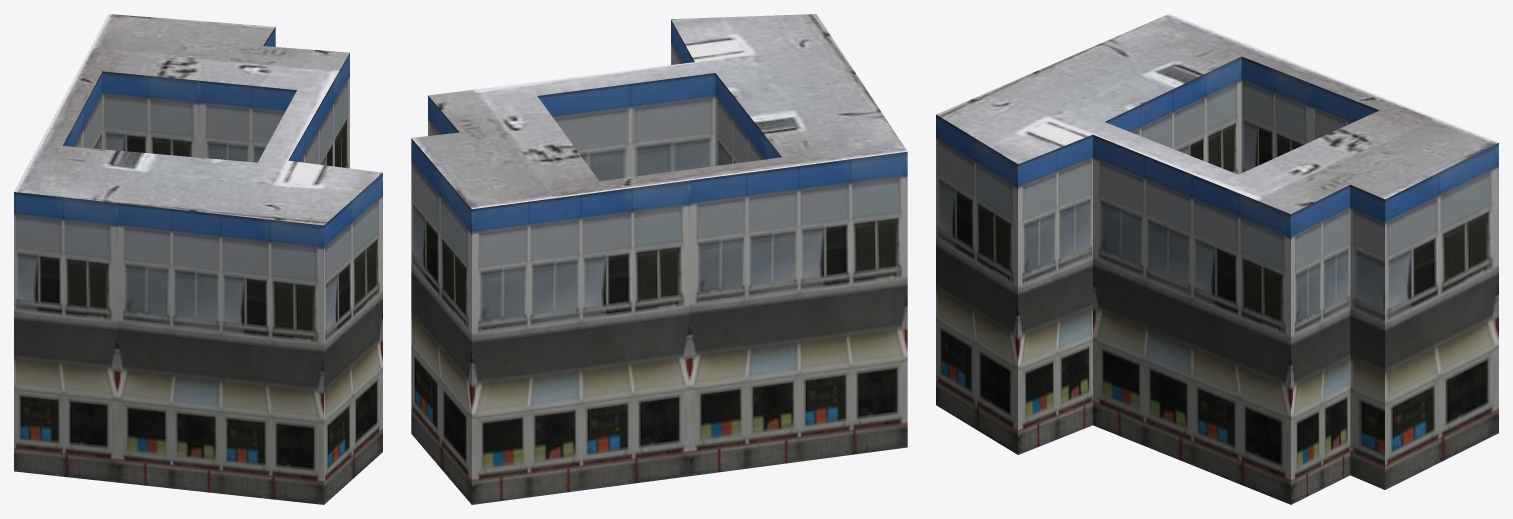
File: EduTex__20.fbx
3 renders of one model, left to right at view 1: azimuth 30°, elevation 25°; view 2: azimuth 150°, elevation 25°; view 3: azimuth 270°, elevation 25°, orthographic. The views are drawn at different scales.
Visible parts, largest first — view 1: CityEngineMaterial_19_m, CityEngineMaterial_11_m; view 2: CityEngineMaterial_19_m, CityEngineMaterial_11_m; view 3: CityEngineMaterial_19_m, CityEngineMaterial_11_m.
Part boxes in pixels (x1,y1,x2,y2): CityEngineMaterial_19_m: (14,27,382,504); CityEngineMaterial_11_m: (14,14,382,225); CityEngineMaterial_19_m: (411,20,907,504); CityEngineMaterial_11_m: (411,14,907,208); CityEngineMaterial_19_m: (936,56,1498,504); CityEngineMaterial_11_m: (936,14,1498,213).
Size of the model in its own units: 13.3 by 9 by 15.79.
Materials: 2 (2 with a texture image).
